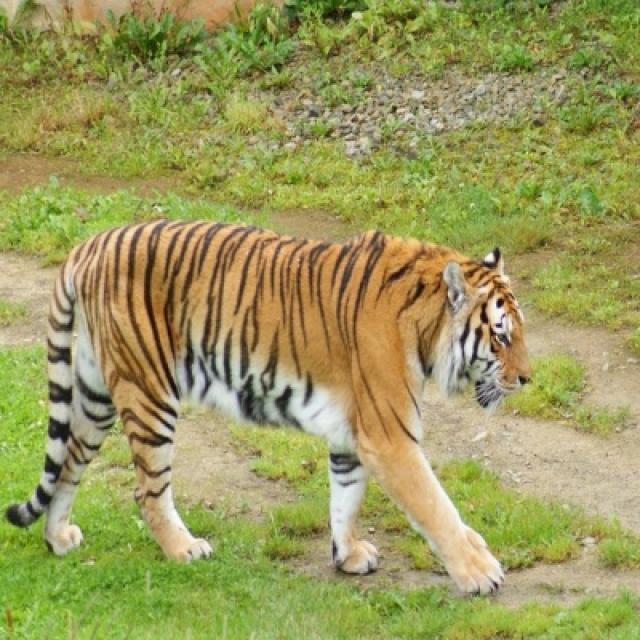Tiger: (2, 217, 533, 600)
